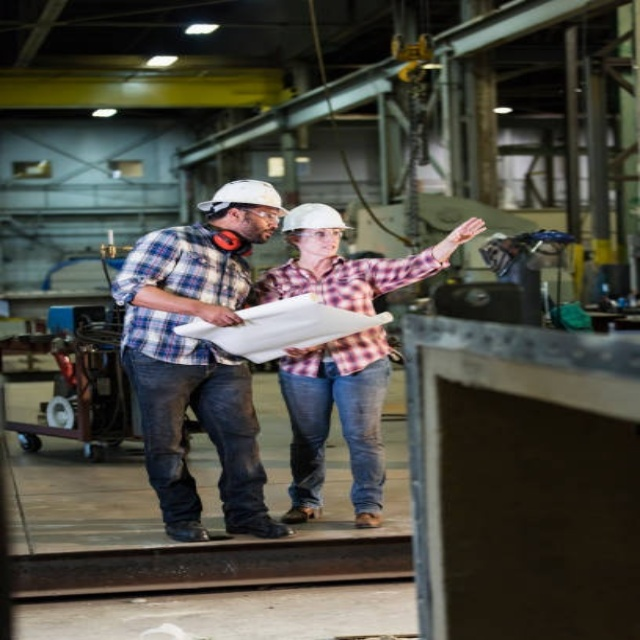Gafas: (239, 208, 284, 221), (290, 230, 347, 240)
Sin_guantes: (442, 215, 491, 248), (201, 302, 250, 328), (283, 342, 324, 358)
Sin_mascara: (251, 227, 278, 242), (318, 241, 339, 254)
